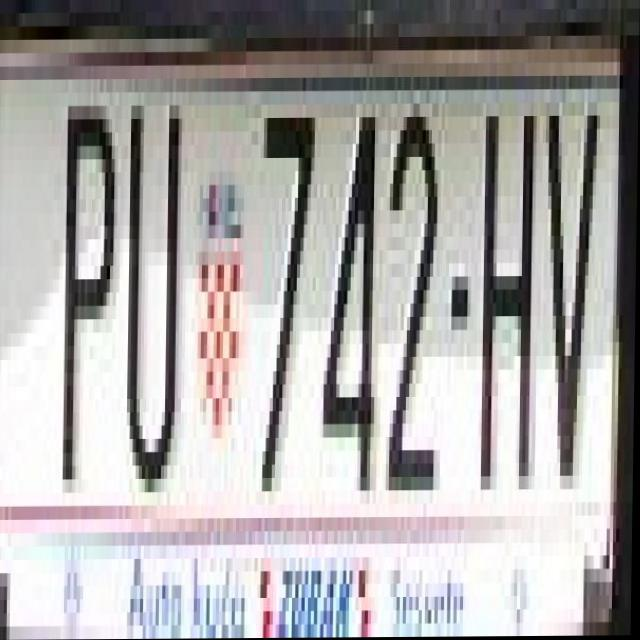2: (387, 104, 446, 504)
4: (314, 51, 382, 505)
7: (251, 92, 312, 492)
H: (472, 90, 541, 517)
P: (58, 79, 123, 493)
U: (121, 65, 190, 493)
V: (542, 90, 611, 490)
